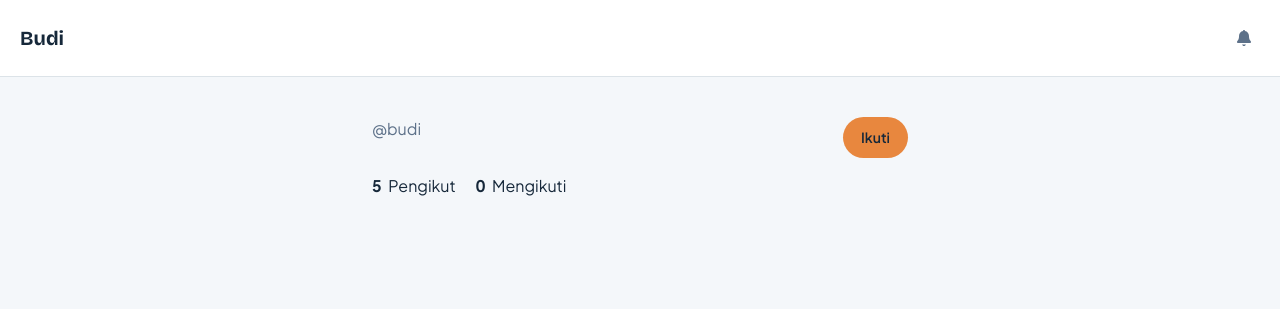
Test case: ProfilePage › bumps the visible follower count when the follow button is tapped
This screenshot has width=1280, height=309.
Check: the text "5" is shown, box [372, 175, 382, 196]
Click the button "Ikuti". click: {"x": 875, "y": 138}
box: [843, 117, 908, 158]
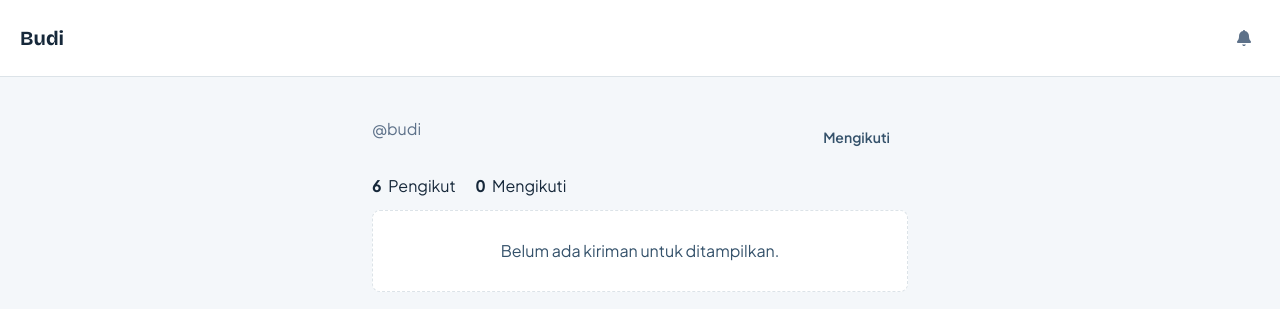
Check: the text "6" is shown, box [372, 175, 382, 196]
